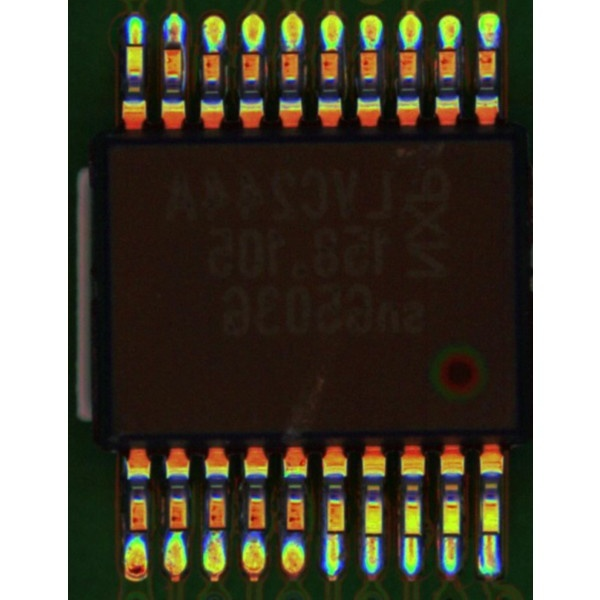Bad_podu: (168, 29, 180, 60), (366, 522, 380, 546), (129, 31, 141, 56), (445, 525, 457, 549), (406, 524, 418, 547), (484, 523, 496, 546), (329, 527, 340, 547)
Bad_qiaojiao: (182, 42, 187, 90)
